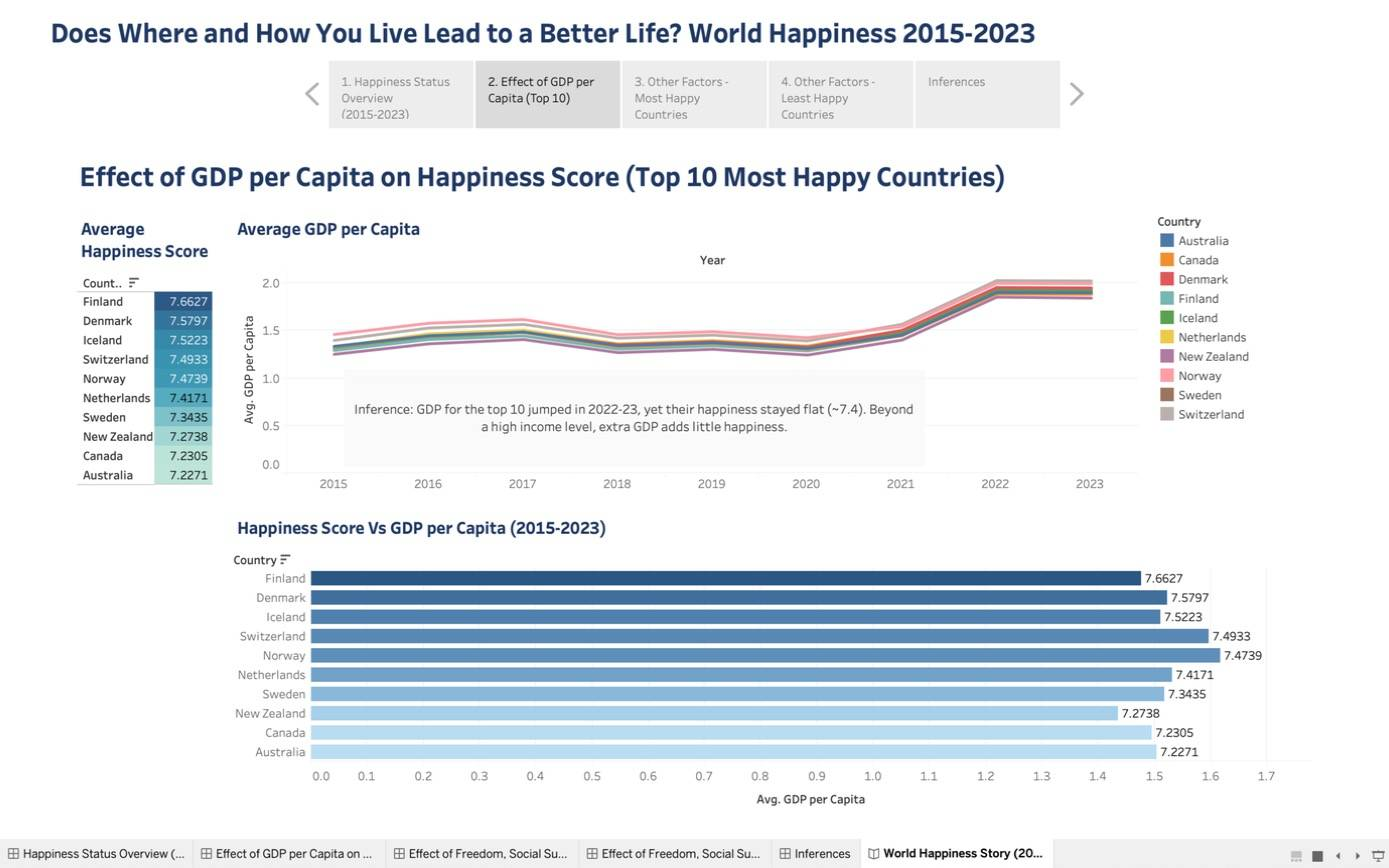

Layout of this report page (visuals, bound fields, positions):
{"tool":"tableau","page":{"name":"Effect of GDP per Capita on Happiness Score (Top 10 Most Happy Countries)","canvas":[1300,700],"ordinal":2},"visuals":[{"type":"title","box":[0,0,1300,57]},{"type":"worksheet","title":"Average Happiness Score","mark":"Square","rows":["country"],"box":[0,57,162,643]},{"type":"worksheet","title":"Average GDP per Capita","mark":"Line","rows":["gdp_per_capita"],"cols":["year"],"box":[162,57,958,310]},{"type":"legend","title":"Average GDP per Capita","param":"[federated.0whr1523data01].[none:country:nk]","box":[1120,57,180,310]},{"type":"worksheet","title":"Happiness Score Vs GDP per Capita (2015-2023)","mark":"Bar","rows":["country"],"cols":["gdp_per_capita"],"box":[162,367,1138,332.9]}]}

Visuals, with their boxes on the page's 1300x700 design canvas (x1, y1, x2, y2). These are canvas units, not pixel positions in the 1389x868 screenshot, which may show the page scaled, cropped or inside an application window:
title: x1=0, y1=0, x2=1300, y2=57
"Average Happiness Score" worksheet (Square marks): x1=0, y1=57, x2=162, y2=700
"Average GDP per Capita" worksheet (Line marks): x1=162, y1=57, x2=1120, y2=367
"Average GDP per Capita" legend: x1=1120, y1=57, x2=1300, y2=367
"Happiness Score Vs GDP per Capita (2015-2023)" worksheet (Bar marks): x1=162, y1=367, x2=1300, y2=700
